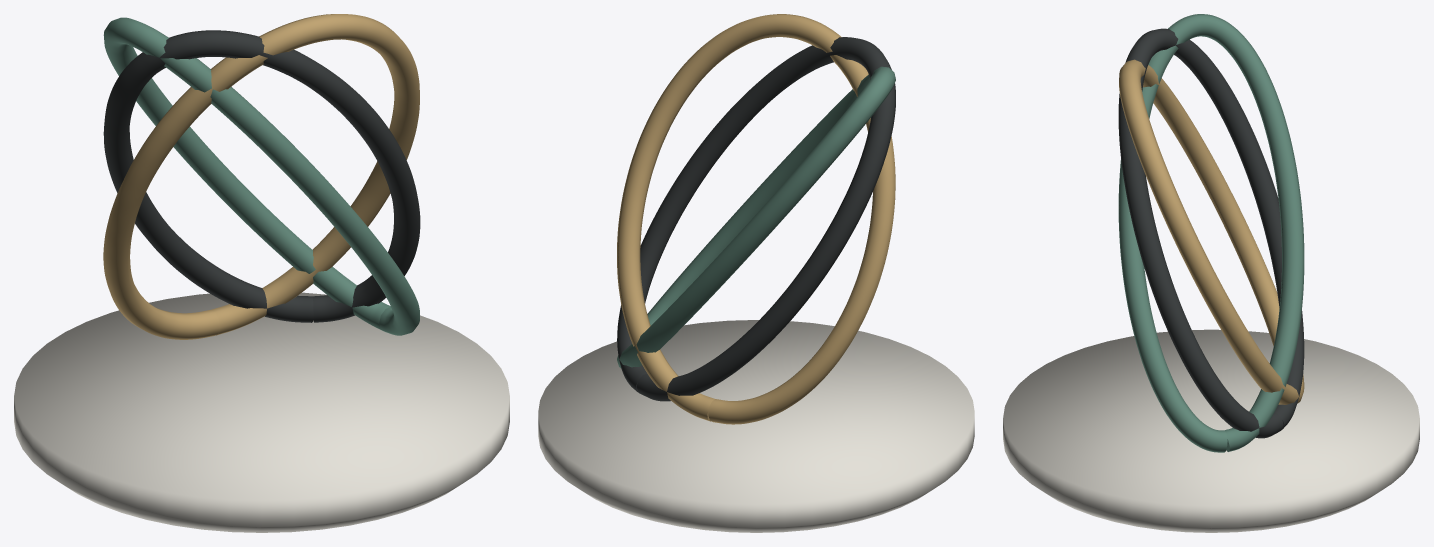
File: plaza_loop_sculpture.glb
The picture shows the model from 3 angles, left to right: view 1: azimuth 30°, elevation 25°; view 2: azimuth 150°, elevation 25°; view 3: azimuth 270°, elevation 25°; orthographic projection. The views are drawn at different scales.
Visible parts, largest first — view 1: plaza_loop_sculpture_Honed_solid_surface, plaza_loop_sculpture_Satin_champagne, plaza_loop_sculpture_Anodised_graphite, plaza_loop_sculpture_V17_sage_enamel; view 2: plaza_loop_sculpture_Honed_solid_surface, plaza_loop_sculpture_Satin_champagne, plaza_loop_sculpture_Anodised_graphite, plaza_loop_sculpture_V17_sage_enamel; view 3: plaza_loop_sculpture_Honed_solid_surface, plaza_loop_sculpture_V17_sage_enamel, plaza_loop_sculpture_Anodised_graphite, plaza_loop_sculpture_Satin_champagne.
Boxes of the visible parts, x1,y1,x2,y2 form: plaza_loop_sculpture_Honed_solid_surface: [14, 292, 509, 532]; plaza_loop_sculpture_Satin_champagne: [103, 14, 419, 339]; plaza_loop_sculpture_Anodised_graphite: [103, 30, 420, 322]; plaza_loop_sculpture_V17_sage_enamel: [103, 17, 419, 335]; plaza_loop_sculpture_Honed_solid_surface: [538, 320, 974, 532]; plaza_loop_sculpture_Satin_champagne: [617, 14, 895, 424]; plaza_loop_sculpture_Anodised_graphite: [617, 37, 895, 401]; plaza_loop_sculpture_V17_sage_enamel: [617, 66, 895, 367]; plaza_loop_sculpture_Honed_solid_surface: [1003, 329, 1419, 532]; plaza_loop_sculpture_V17_sage_enamel: [1118, 14, 1304, 452]; plaza_loop_sculpture_Anodised_graphite: [1118, 28, 1304, 438]; plaza_loop_sculpture_Satin_champagne: [1119, 59, 1304, 404].
Bounding box in the file's own units: 2.04 × 2.06 × 2.04.
